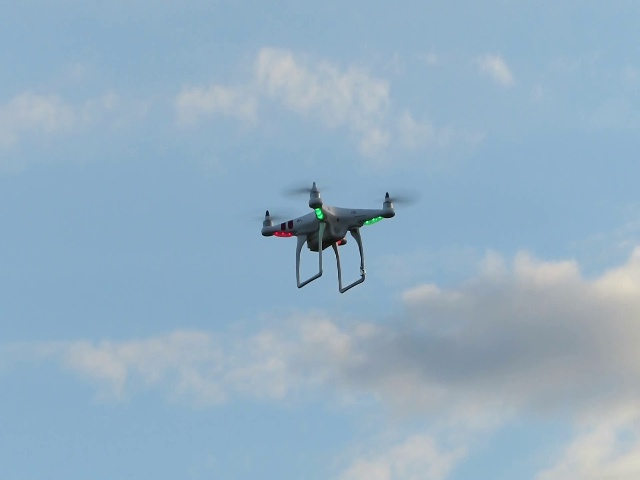drone: (250, 180, 414, 294)
